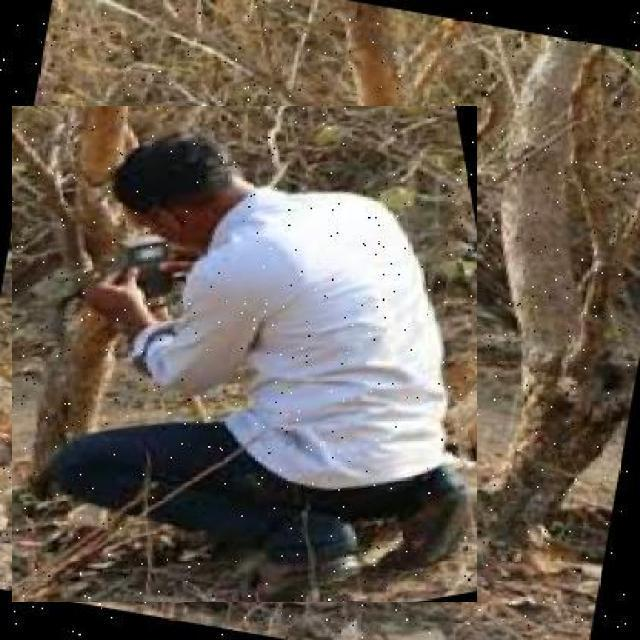poacher: (108, 105, 429, 547)
